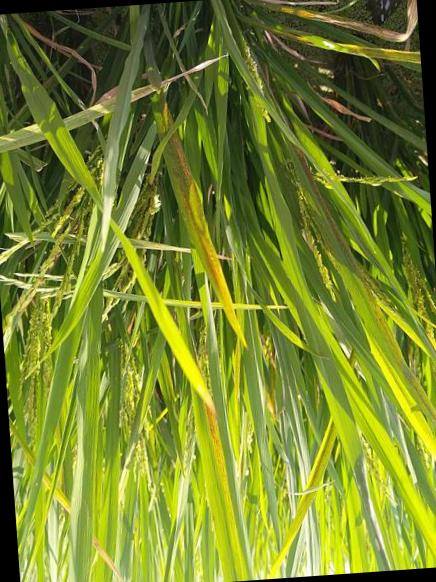Leaf Streak: (162, 129, 247, 348), (293, 144, 356, 271), (204, 399, 228, 497), (150, 85, 175, 138)
